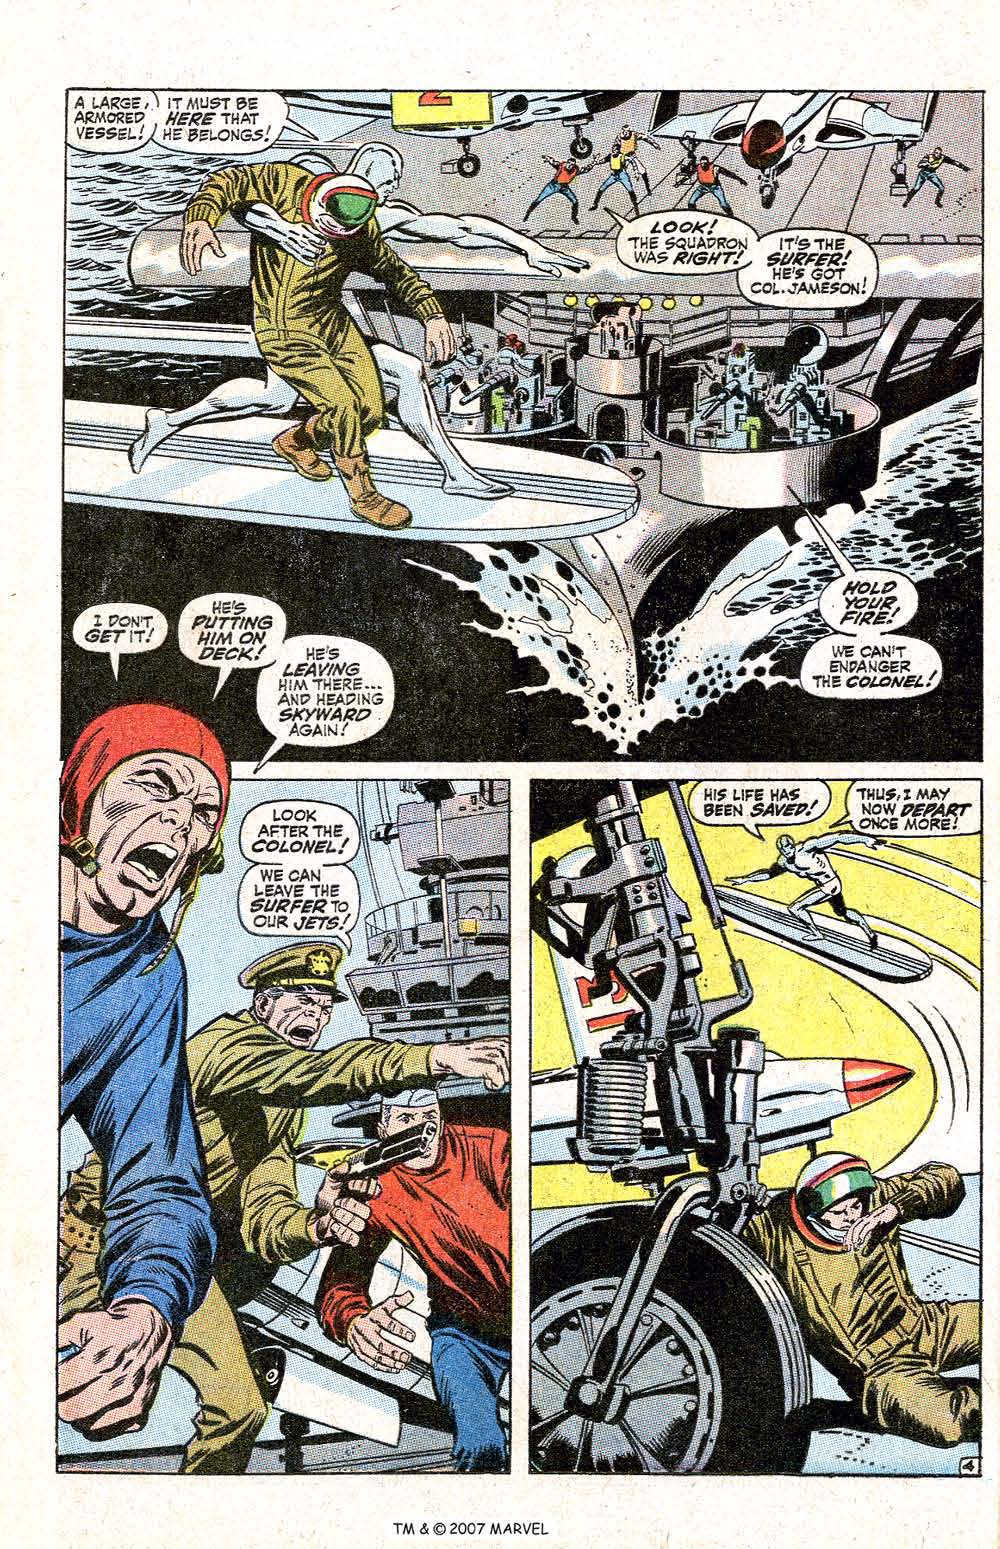Baloon: (603, 200, 880, 310), (261, 635, 400, 756), (65, 91, 312, 157), (239, 857, 363, 938), (801, 629, 946, 698), (175, 596, 287, 676), (847, 774, 984, 838), (821, 560, 922, 635), (68, 603, 165, 676), (244, 803, 356, 860), (694, 784, 827, 829)
Vignetta: (65, 88, 982, 765), (44, 700, 511, 1476), (527, 781, 977, 1479)
